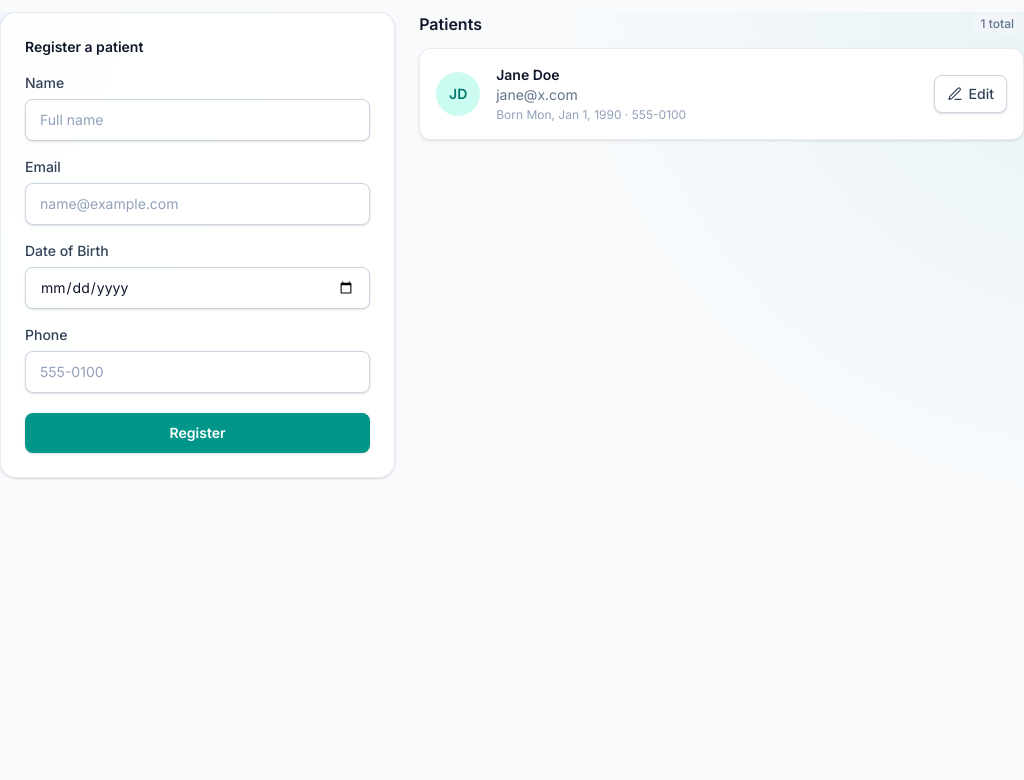
Scenario: ManagePatients › registers a new patient with correct payload and shows confirmation
Check: the text "Jane Doe" is shown, box [496,66,560,83]
Type "John Smith" into the field labelled "Name".
click(198, 120); type("John Smith")  # box [25,99,370,141]
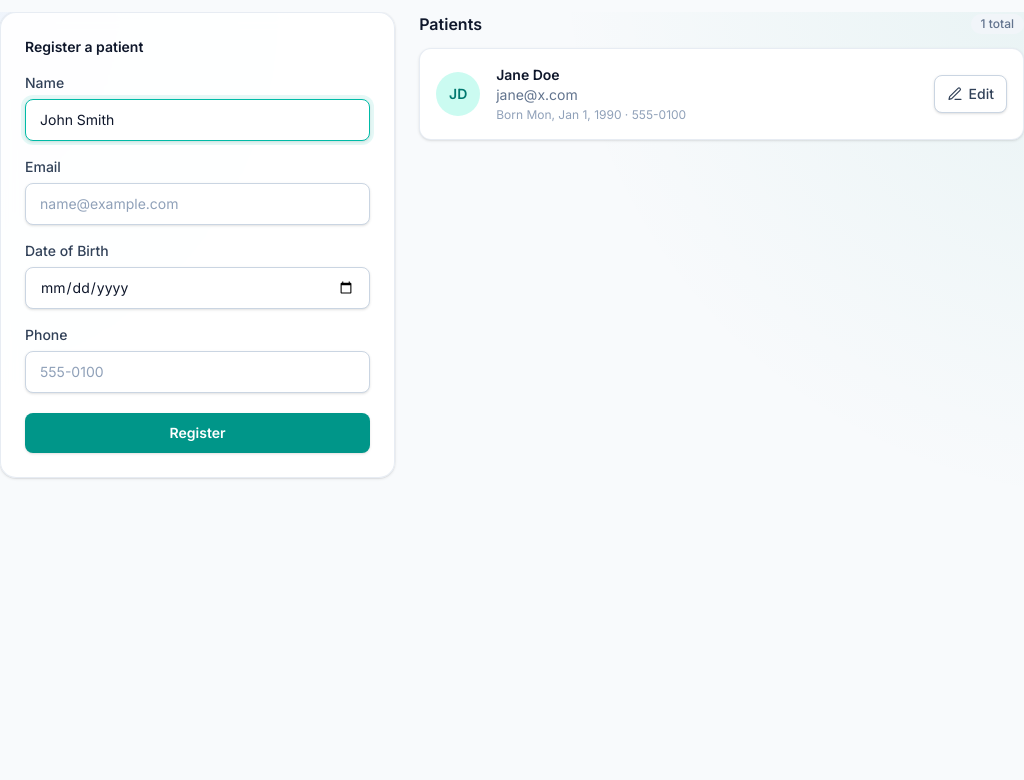
Type "john@x.com" into the field labelled "Email".
click(198, 204); type("john@x.com")  # box [25,183,370,225]
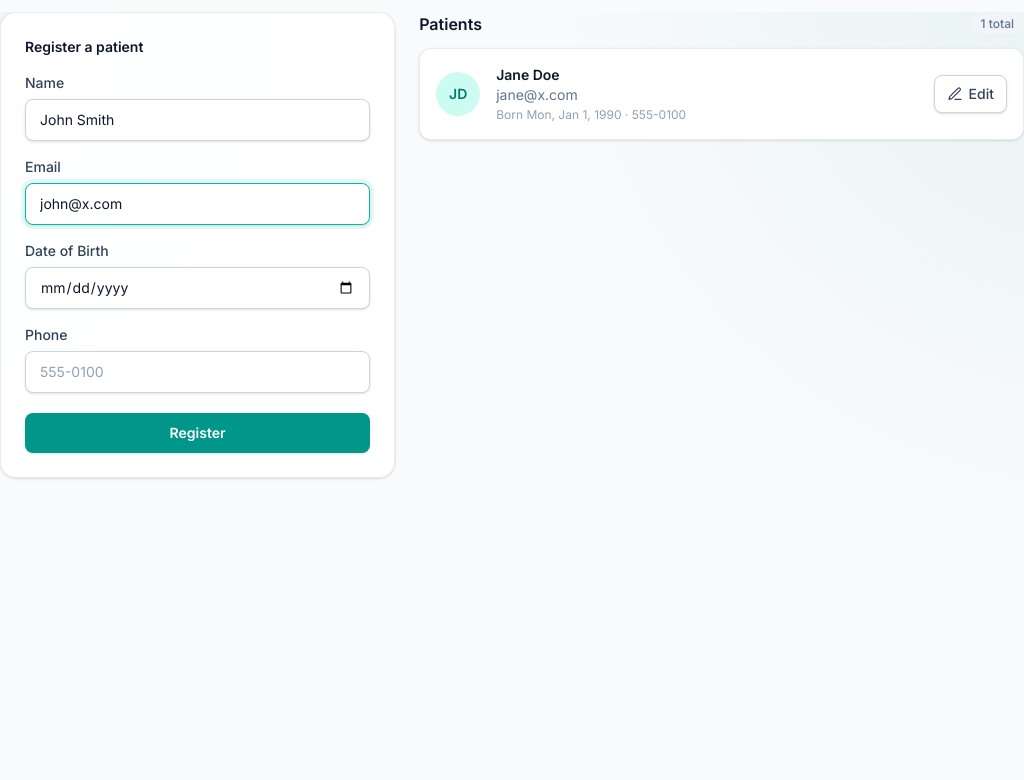
Type "1985-05-05" into the date field labelled "Date of Birth".
click(198, 288); type("1985-05-05")  # box [25,267,370,309]
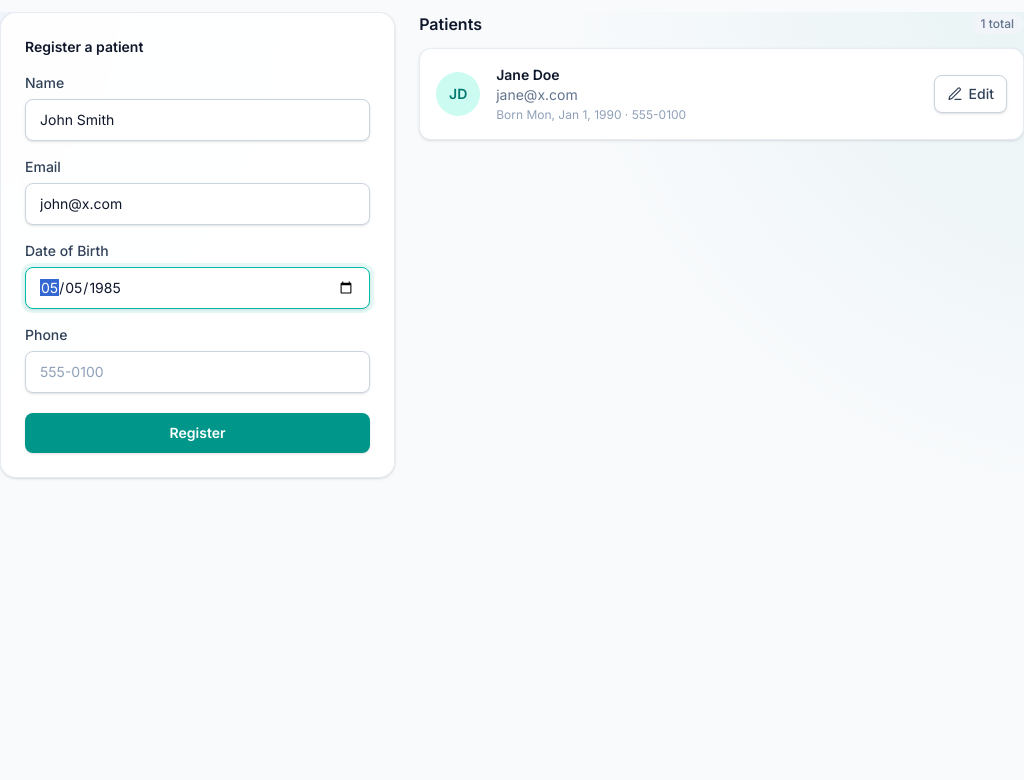
Type "555-0200" into the field labelled "Phone".
click(198, 372); type("555-0200")  # box [25,351,370,393]
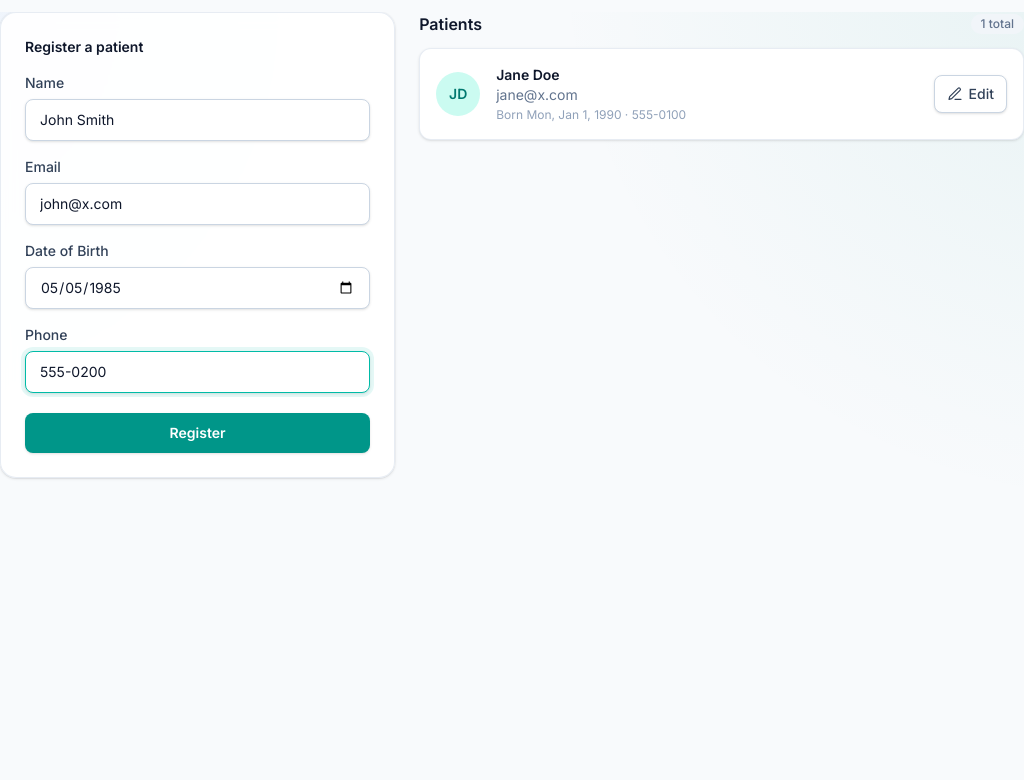
Click the button "Register".
click(198, 433)  # box [25,413,370,453]
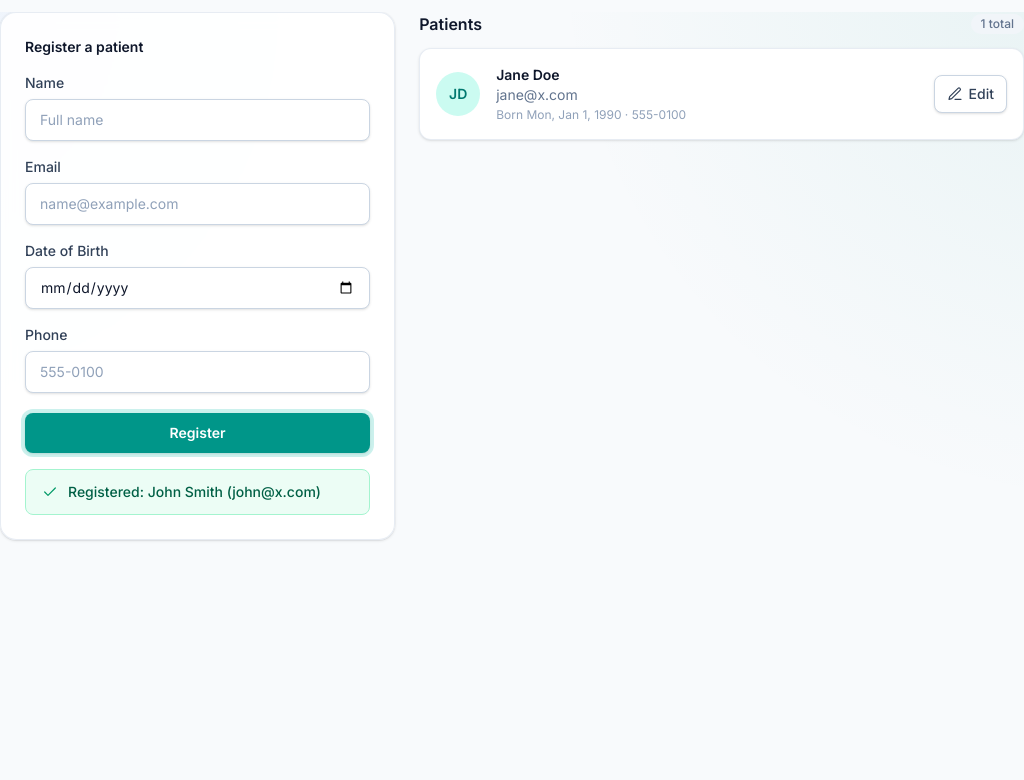
Check: the text "Registered: John Smith (john@x.com)" is shown, box [68,482,321,502]
